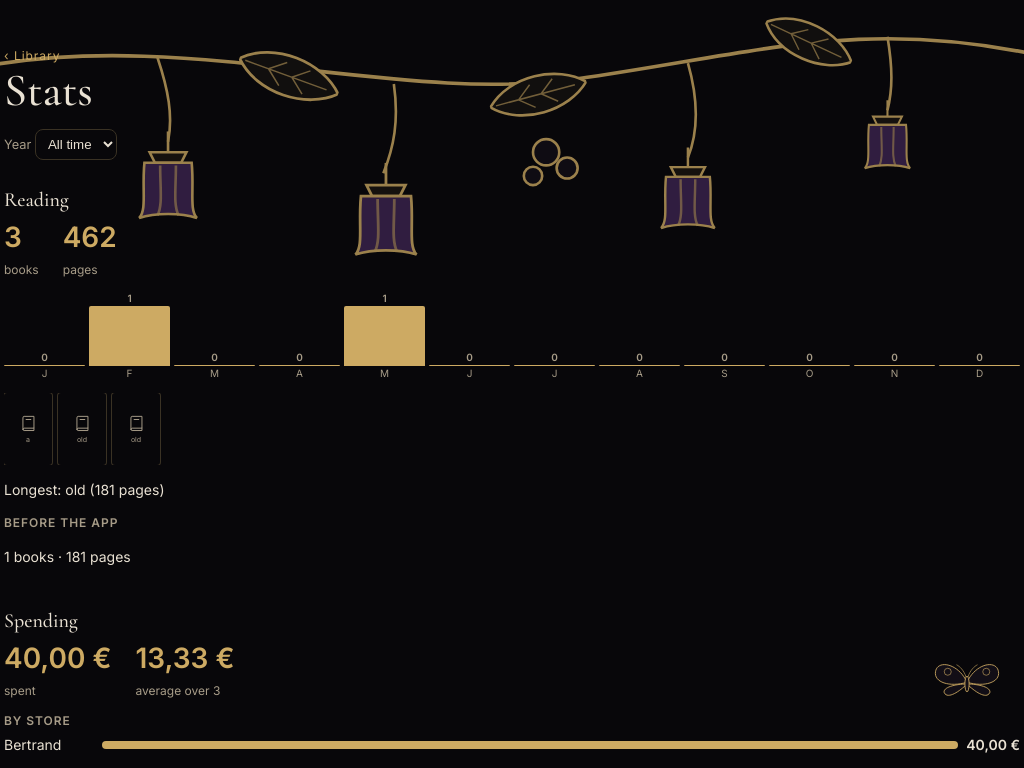
Test case: year picker re-renders totals; All time shows Before the app
Expected: the element "Reading" is shown, [4,176,1020,581]
Expected: the element labelled "Before the app" is shown, [4,515,131,565]
Select "2025" in the dropdown labelled "Year" at point(76, 144), box [35,129,117,160]
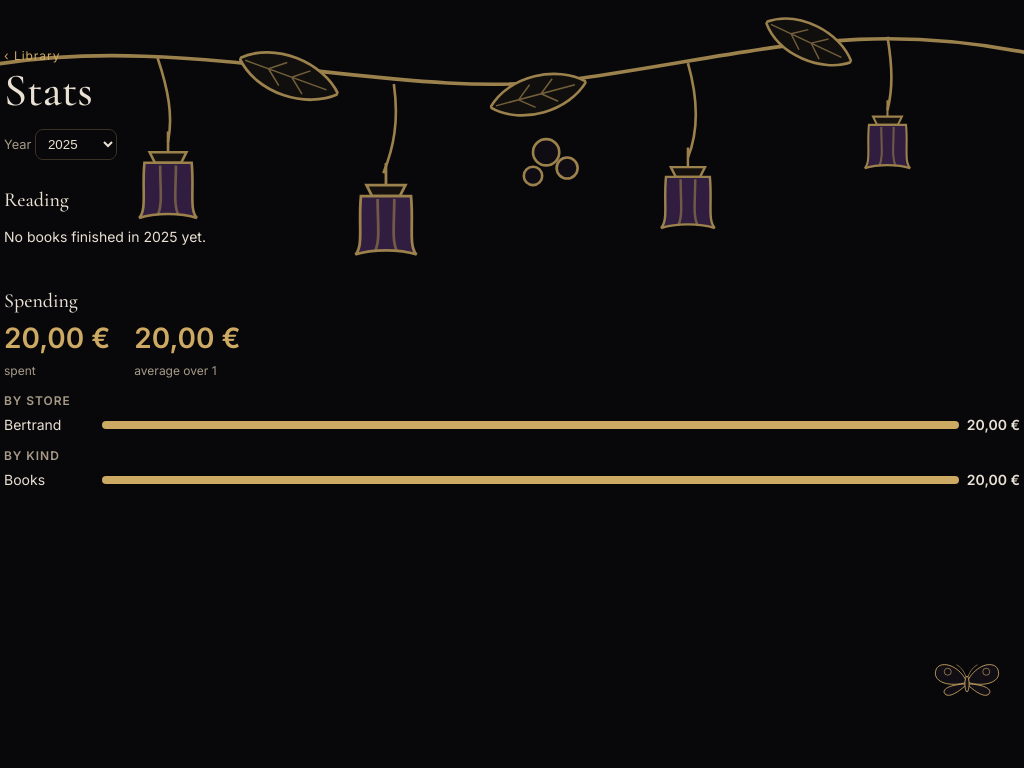
Expected: the text "No books finished in 2025 yet." is shown, [4,228,206,245]
Expected: the heading labelled "Before the app" is gone
Expected: the 1st text "20,00 €" is shown, [4,317,110,359]
Select "2024" in the dropdown labelled "Year" at point(76, 144), box [35,129,117,160]
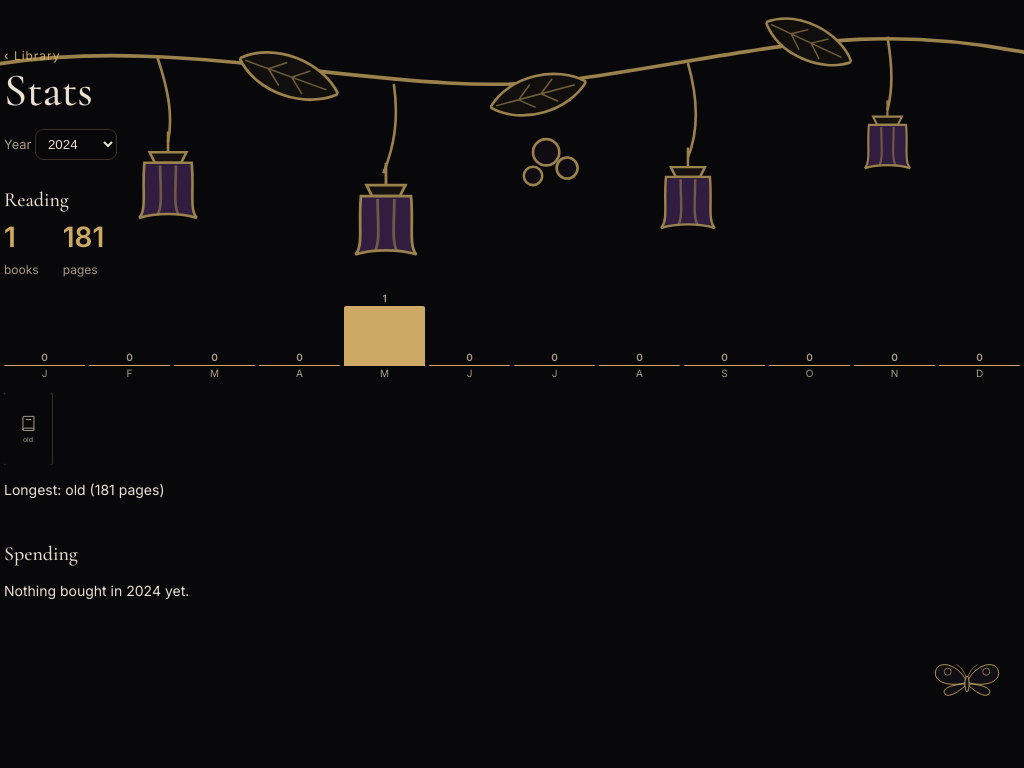
Expected: the text "Nothing bought in 2024 yet." is shown, [4,582,189,599]
